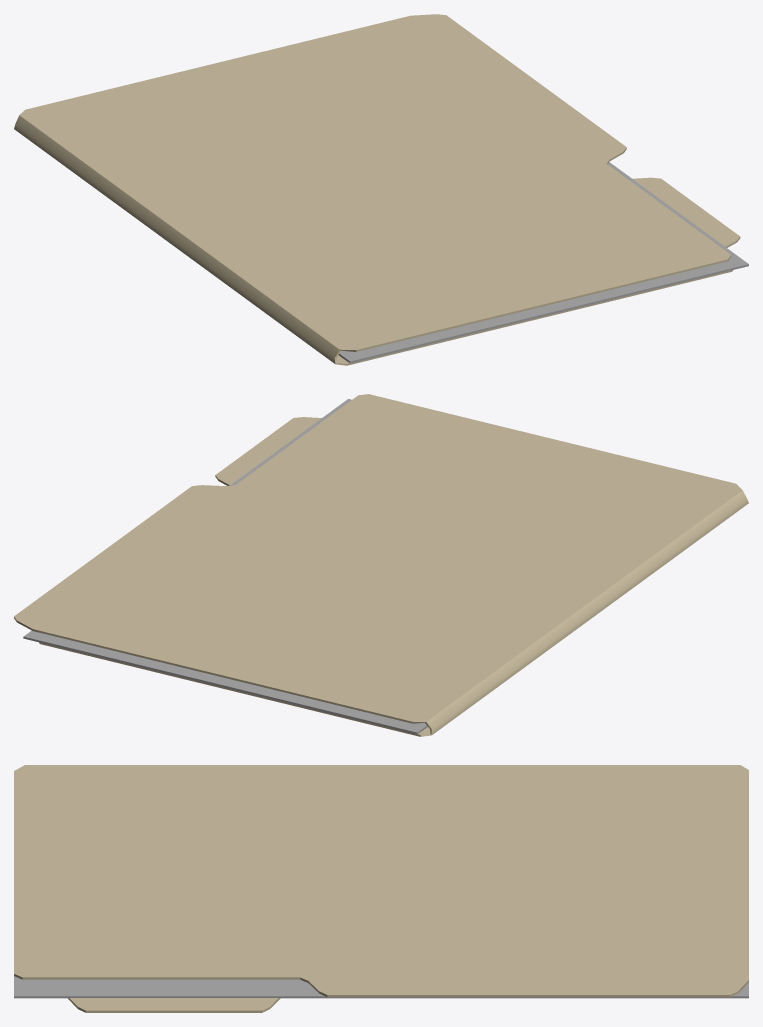
Rendered from Ship_PaperStack_002_Folder.fbx.
The picture shows the model from 3 angles, top to bottom: view 1: azimuth 30°, elevation 25°; view 2: azimuth 150°, elevation 25°; view 3: azimuth 270°, elevation 25°; orthographic projection. The views are drawn at different scales.
Visible parts, largest first — view 1: Folder, Paper; view 2: Folder, Paper; view 3: Folder, Paper.
Part boxes in pixels (x1,y1,x2,y2): Folder: [14, 14, 740, 365]; Paper: [338, 162, 748, 363]; Folder: [14, 394, 748, 736]; Paper: [23, 399, 427, 734]; Folder: [14, 765, 748, 1012]; Paper: [14, 976, 748, 998].
Bounding box in the file's own units: 22.8 × 0.6737 × 30.
